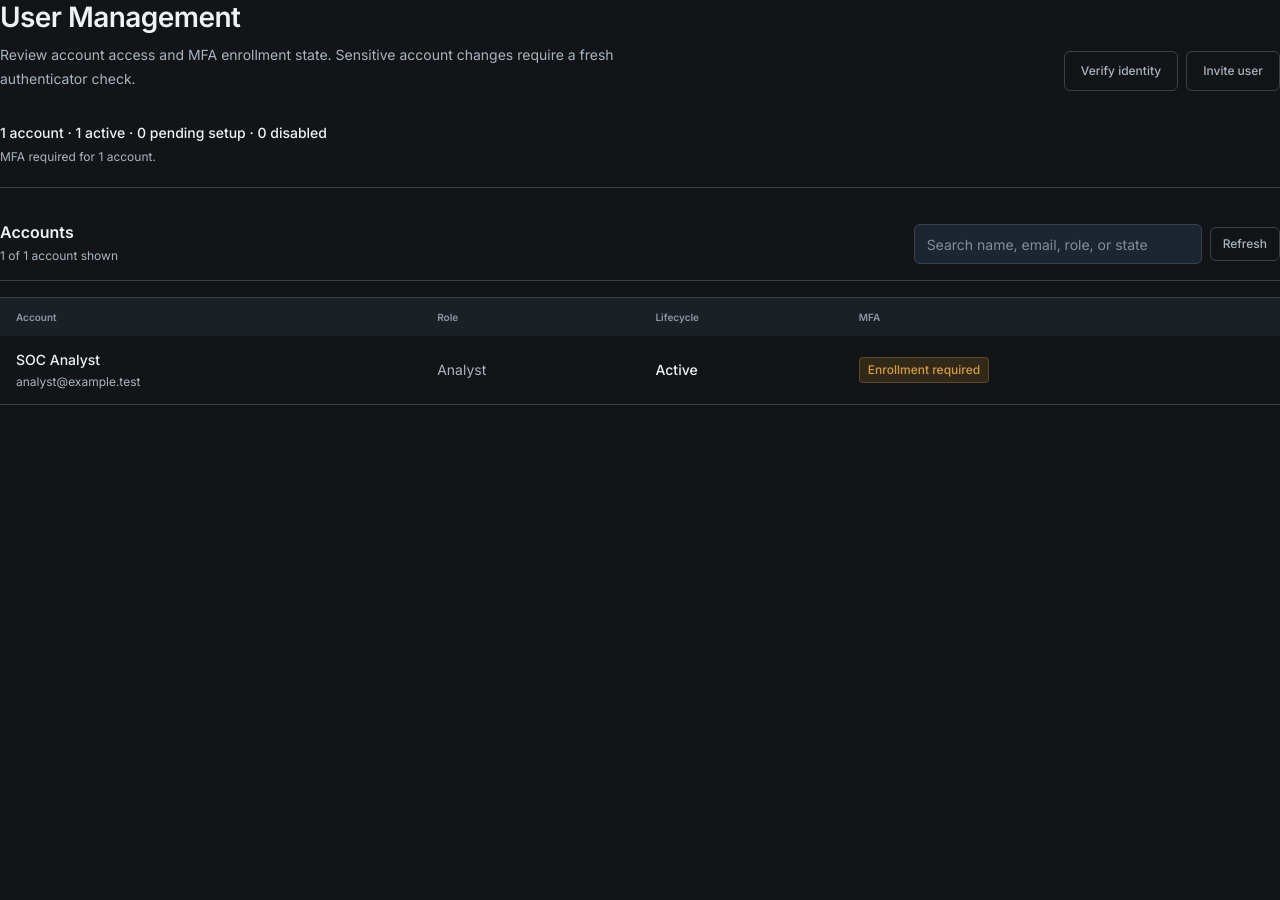
it: UserManagementWorkspace › does not expose self role or status mutations when the current account is known
This screenshot has width=1280, height=900.
Click the button with aria-label "Open account details for SOC Analyst" at (58, 360), box top-left (16, 350), bottom-right (100, 370)
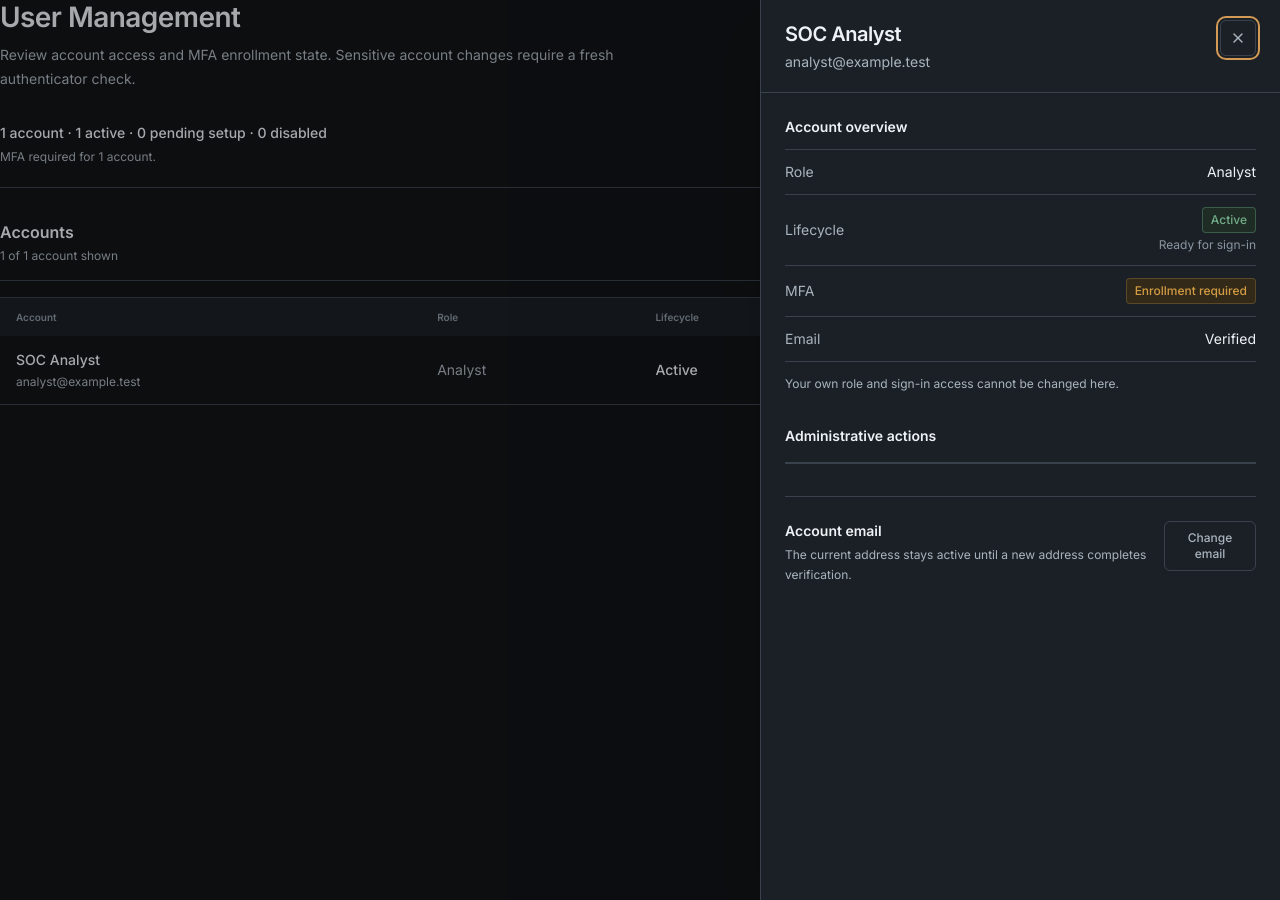
Now the text "Your own role and sign-in access cannot be changed here." is shown, box top-left (785, 376), bottom-right (1119, 391)
